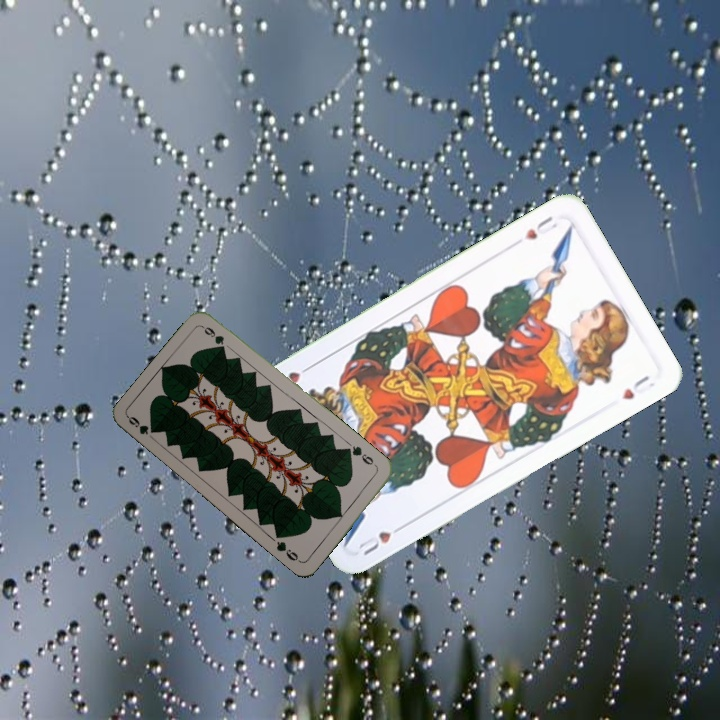G9: (344, 442, 380, 471), (124, 412, 158, 437)
HU: (354, 520, 408, 558), (520, 212, 560, 243)
